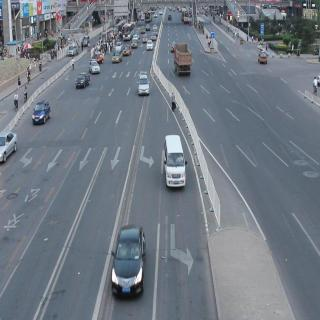BigCar: (172, 38, 195, 80), (121, 17, 135, 42), (180, 10, 191, 31), (143, 4, 152, 27)
Car: (107, 213, 146, 297), (163, 120, 186, 196), (30, 90, 48, 130), (85, 60, 107, 83), (136, 70, 150, 102), (254, 49, 270, 69), (77, 68, 89, 94), (112, 52, 123, 68), (120, 47, 134, 59), (147, 38, 152, 62)
